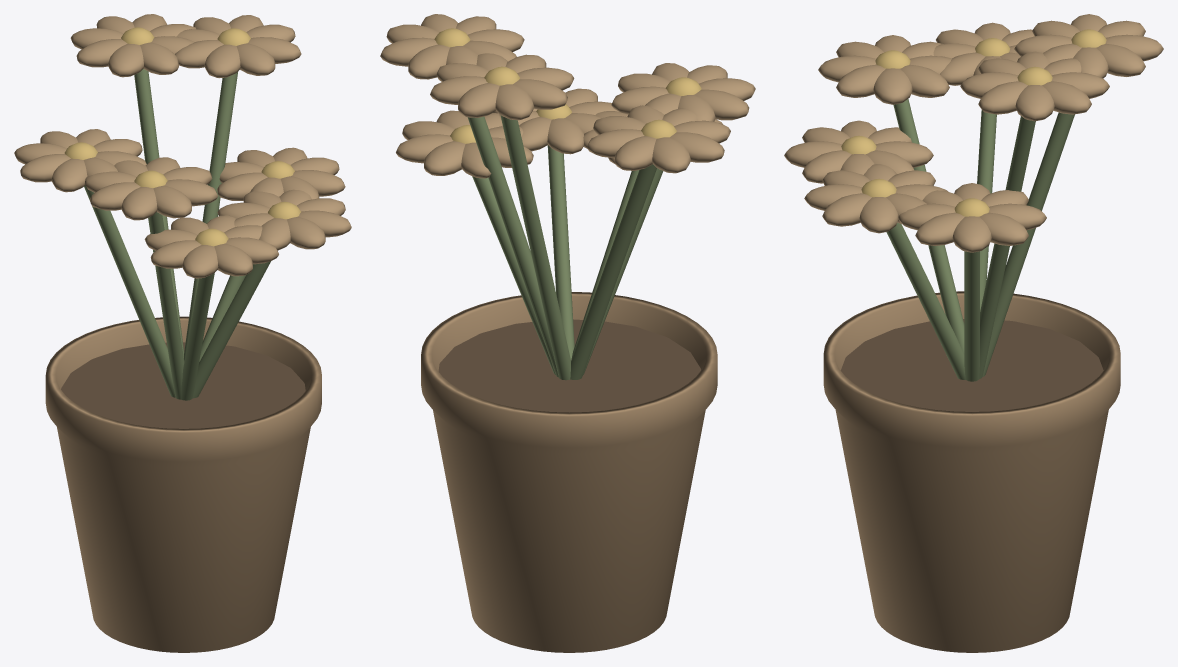
Rendered from mums.glb.
3 renders of one model, left to right at view 1: azimuth 30°, elevation 25°; view 2: azimuth 150°, elevation 25°; view 3: azimuth 270°, elevation 25°, orthographic. The views are drawn at different scales.
Visible parts, largest first — view 1: mum-pot-hollow-vessel, mum-pot-contained-soil, mum-stem-4, mum-stem-5, mum-stem-3, mum-stem-1, mum-stem-6, mum-stem-2, mum-3-petal-2, mum-5-petal-2, mum-5-petal-3, mum-2-petal-2 (+30 smaller); view 2: mum-pot-hollow-vessel, mum-pot-contained-soil, mum-stem-2, mum-stem-4, mum-stem-5, mum-stem-3, mum-stem-0, mum-2-petal-5, mum-4-petal-5, mum-2-petal-6, mum-4-petal-6, mum-0-petal-6 (+25 smaller); view 3: mum-pot-hollow-vessel, mum-pot-contained-soil, mum-stem-2, mum-stem-5, mum-stem-3, mum-stem-1, mum-stem-0, mum-stem-4, mum-0-petal-0, mum-1-petal-0, mum-3-petal-0, mum-5-petal-0 (+31 smaller).
Boxes of the visible parts, x1,y1,x2,y2 form: mum-pot-hollow-vessel: (45, 316, 321, 652); mum-pot-contained-soil: (61, 342, 305, 428); mum-stem-4: (84, 185, 175, 397); mum-stem-5: (184, 71, 238, 361); mum-stem-3: (192, 261, 270, 398); mum-stem-1: (148, 212, 184, 399); mum-stem-6: (181, 273, 214, 400); mum-stem-2: (134, 69, 184, 357); mum-3-petal-2: (287, 216, 325, 249); mum-5-petal-2: (236, 43, 275, 75); mum-5-petal-3: (204, 44, 240, 78); mum-2-petal-2: (140, 42, 178, 74); mum-pot-hollow-vessel: (421, 292, 717, 652); mum-pot-contained-soil: (438, 319, 700, 412); mum-stem-2: (500, 115, 570, 380); mum-stem-4: (570, 164, 656, 379); mum-stem-5: (467, 116, 558, 377); mum-stem-3: (547, 145, 574, 360); mum-stem-0: (472, 176, 555, 374); mum-2-petal-5: (495, 84, 534, 120); mum-4-petal-5: (652, 137, 690, 173); mum-2-petal-6: (458, 83, 499, 117); mum-4-petal-6: (615, 136, 656, 170); mum-0-petal-6: (424, 141, 465, 175); mum-pot-hollow-vessel: (823, 291, 1120, 652); mum-pot-contained-soil: (840, 319, 1103, 411); mum-stem-2: (982, 112, 1074, 376); mum-stem-5: (979, 116, 1035, 378); mum-stem-3: (886, 223, 965, 379); mum-stem-1: (893, 99, 964, 353); mum-stem-0: (964, 251, 979, 381); mum-stem-4: (977, 110, 996, 311); mum-0-petal-0: (952, 216, 991, 252); mum-1-petal-0: (873, 68, 912, 104); mum-3-petal-0: (859, 197, 898, 233); mum-5-petal-0: (1015, 85, 1054, 121).
Size of the model in its own units: 0.4894 by 0.825 by 0.486.
